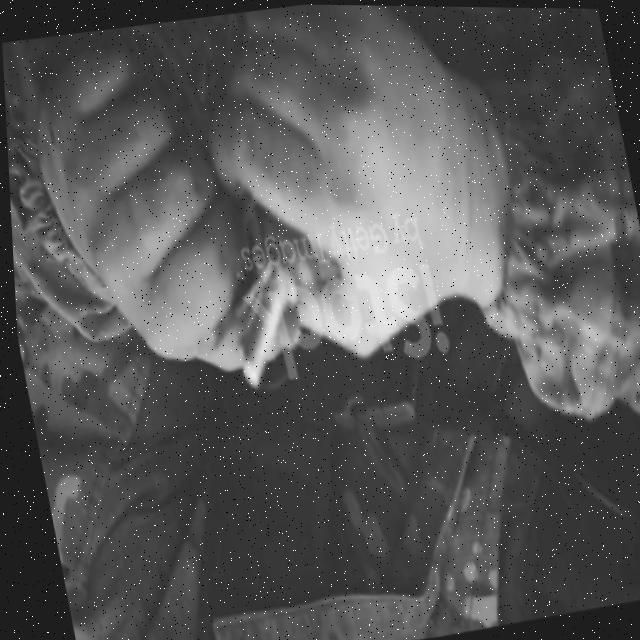grenade: (195, 209, 354, 396)
